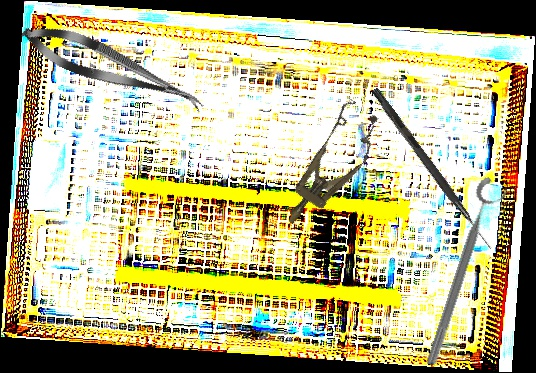Fixation Ring: (420, 174, 512, 372)
Hook Surgical: (369, 87, 496, 251)
Micro Scissor: (15, 13, 212, 123)
Speculum: (268, 96, 391, 238)
